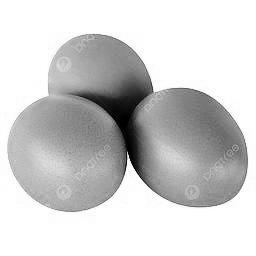telur: (2, 95, 129, 211), (134, 88, 248, 208), (49, 33, 155, 112)
